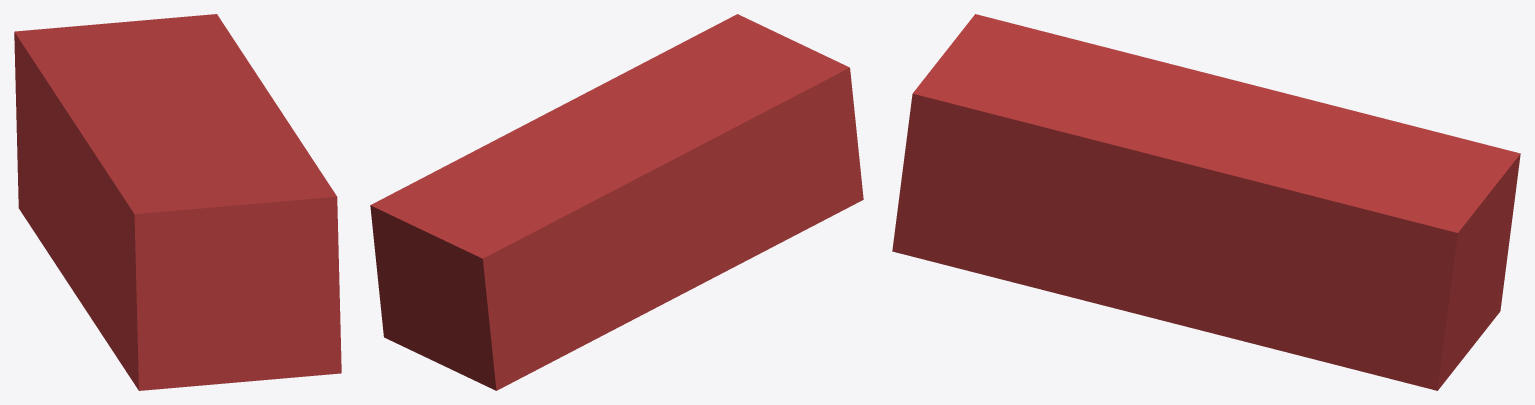
The model's file is red2.fbx.
The picture shows the model from 3 angles, left to right: view 1: azimuth 30°, elevation 25°; view 2: azimuth 150°, elevation 25°; view 3: azimuth 270°, elevation 25°; orthographic projection. The views are drawn at different scales.
Visible parts, largest first — view 1: objects; view 2: objects; view 3: objects.
Boxes of the visible parts, x1,y1,x2,y2 form: objects: [14, 14, 341, 390]; objects: [370, 14, 863, 390]; objects: [892, 14, 1520, 390].
Bounding box in the file's own units: 1.9 × 3.16 × 1.24.
